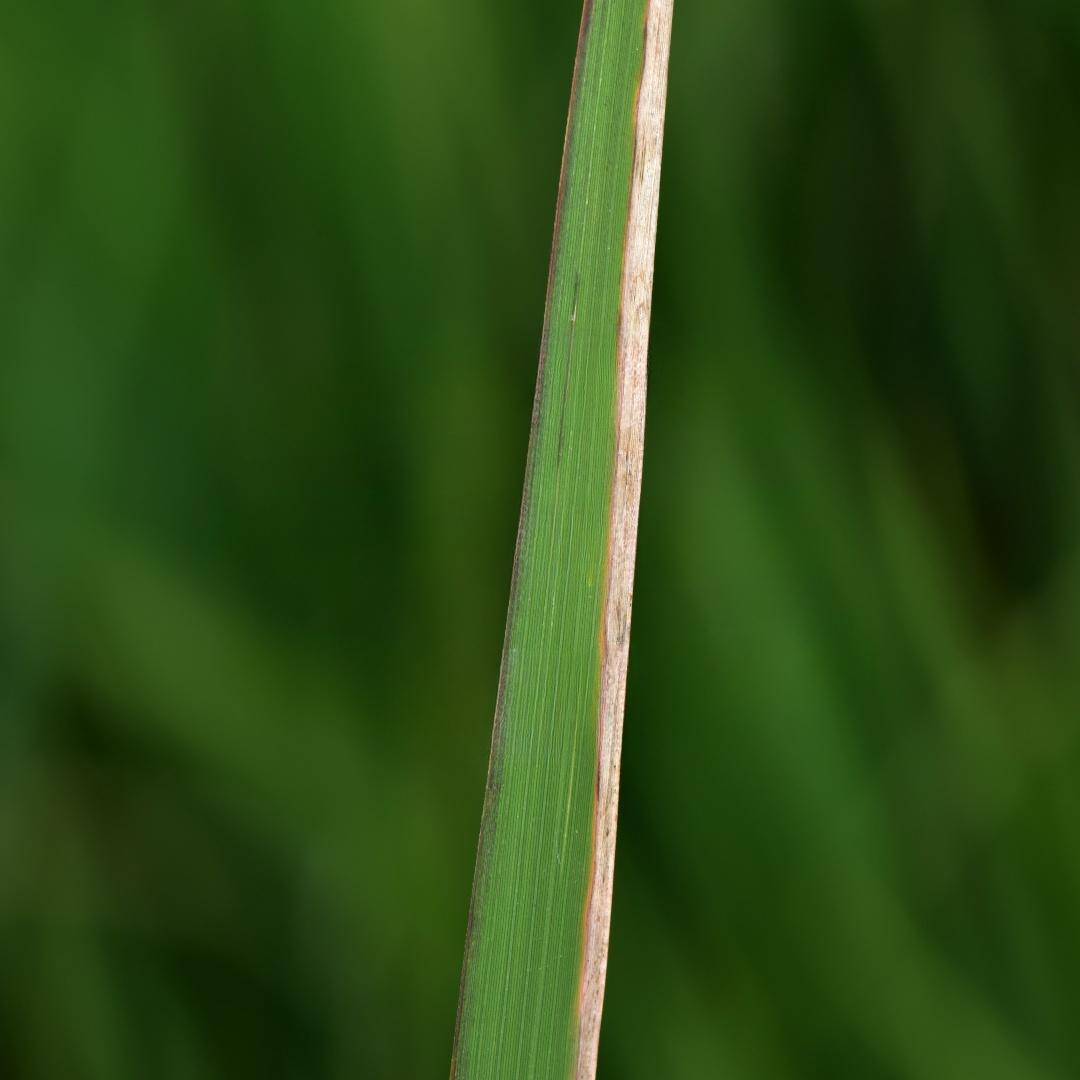BLB: (573, 0, 673, 1078)
LEAF: (450, 0, 673, 1079)
